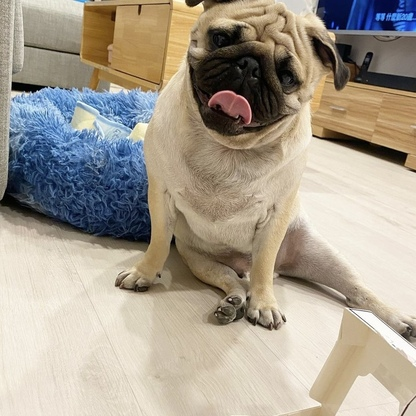Pug: (112, 1, 416, 352)
